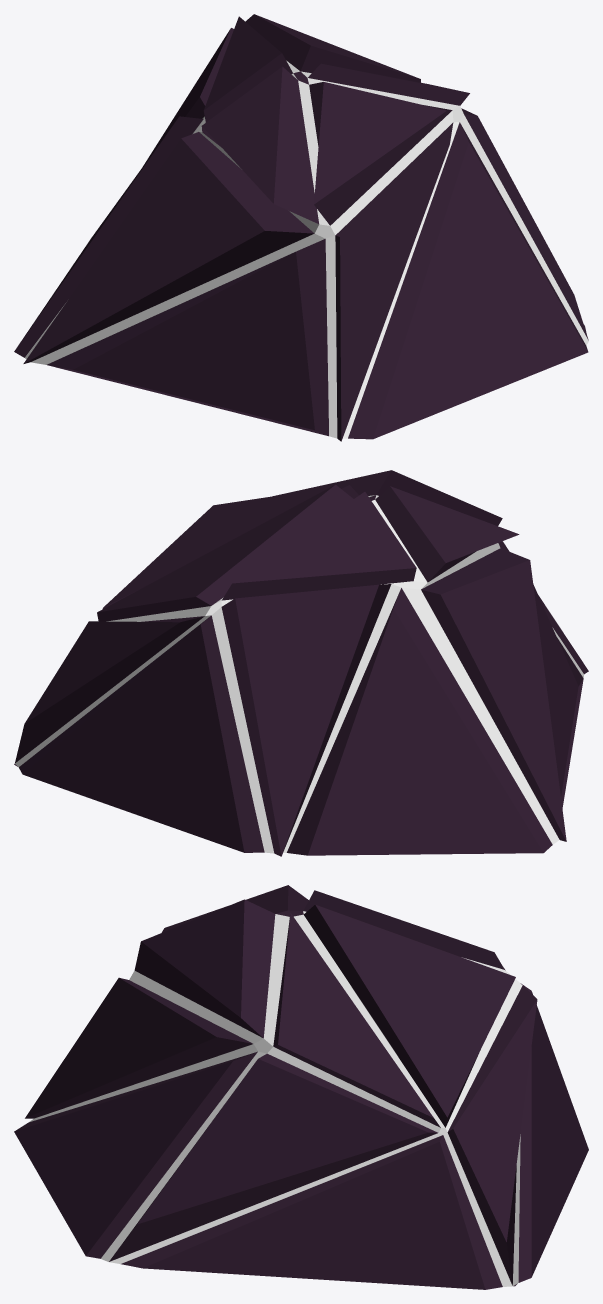
The model's file is lava-stone2.fbx.
3 renders of one model, top to bottom at view 1: azimuth 30°, elevation 25°; view 2: azimuth 150°, elevation 25°; view 3: azimuth 270°, elevation 25°, orthographic. The views are drawn at different scales.
Parts seen in each view (by area): view 1: Icosphere; view 2: Icosphere; view 3: Icosphere.
Boxes of the visible parts, box(x1,y1,x2,y2) form: Icosphere: box(14, 14, 588, 441); Icosphere: box(14, 470, 588, 856); Icosphere: box(14, 885, 588, 1289).
Size of the model in its own units: 222 by 119 by 220.
